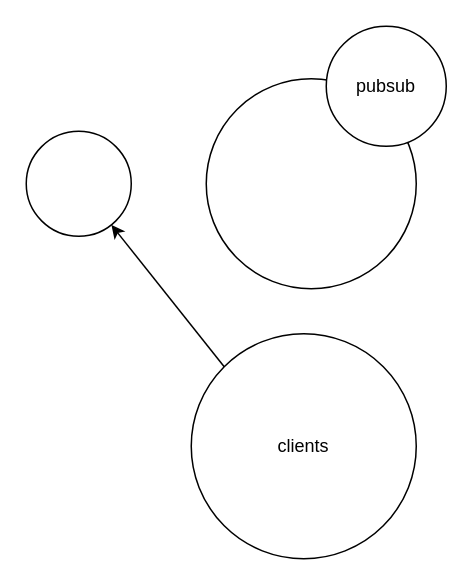
Image size: 473x585. Some labels were removed from this diagram. Each missing label, with the box of its shape:
blockchain: (25, 130, 131, 236)
server: (205, 77, 416, 289)
